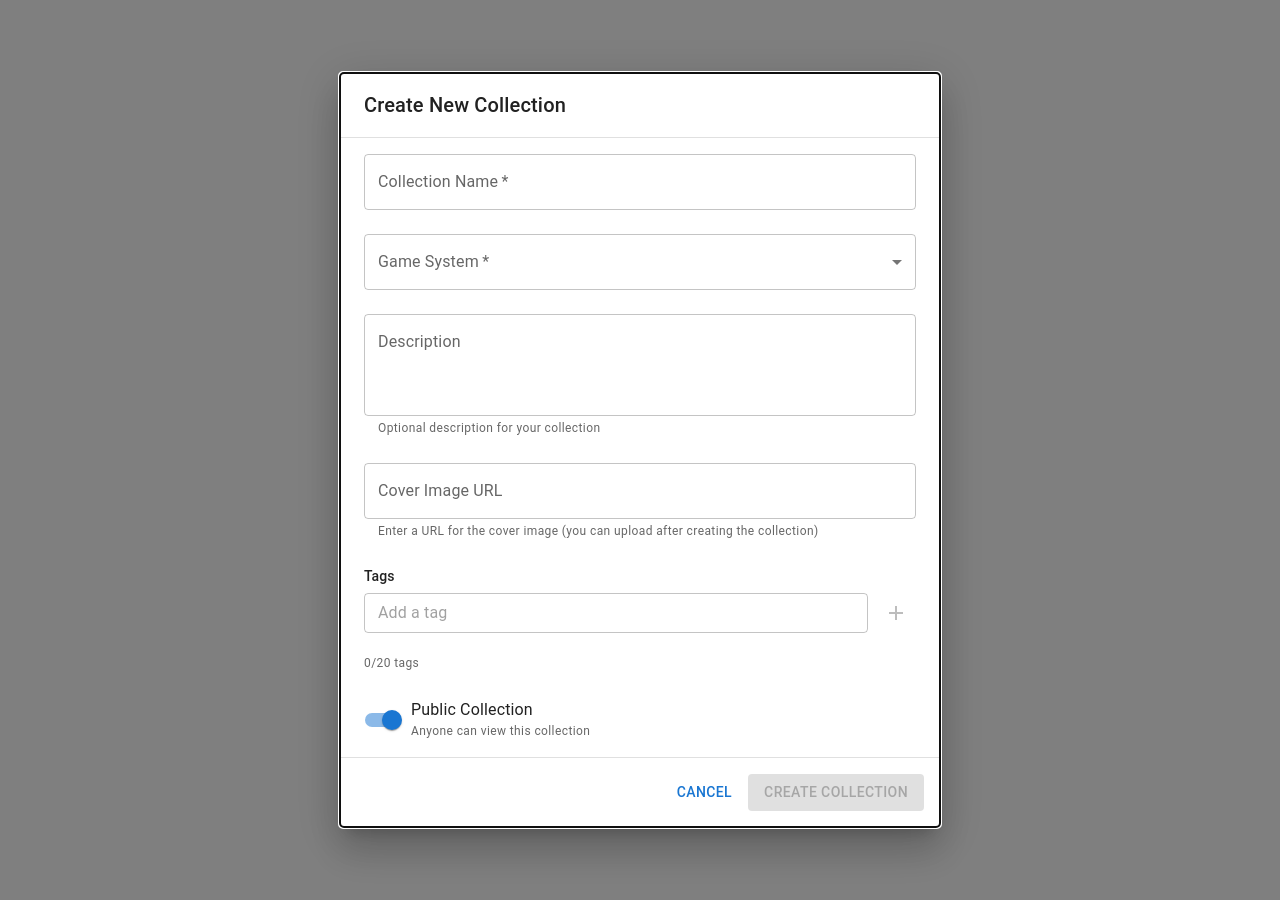
Scenario: CollectionForm › validates URL format for image URL
In the field labelled "Collection Name *": (640, 182) [364,154,916,210], type "Test Collection"
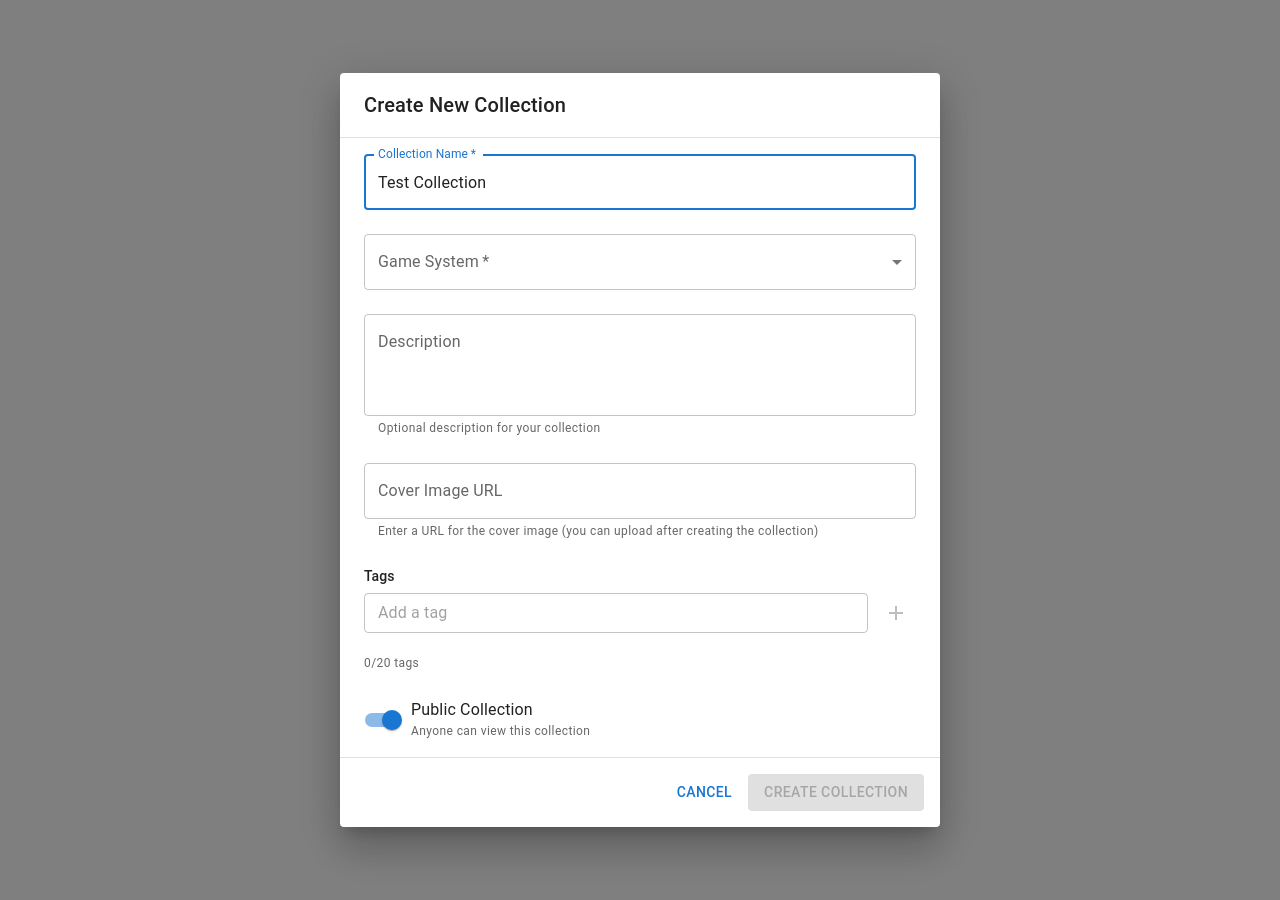
In the field labelled "Cover Image URL": (640, 491) [364,463,916,519], type "invalid-url"
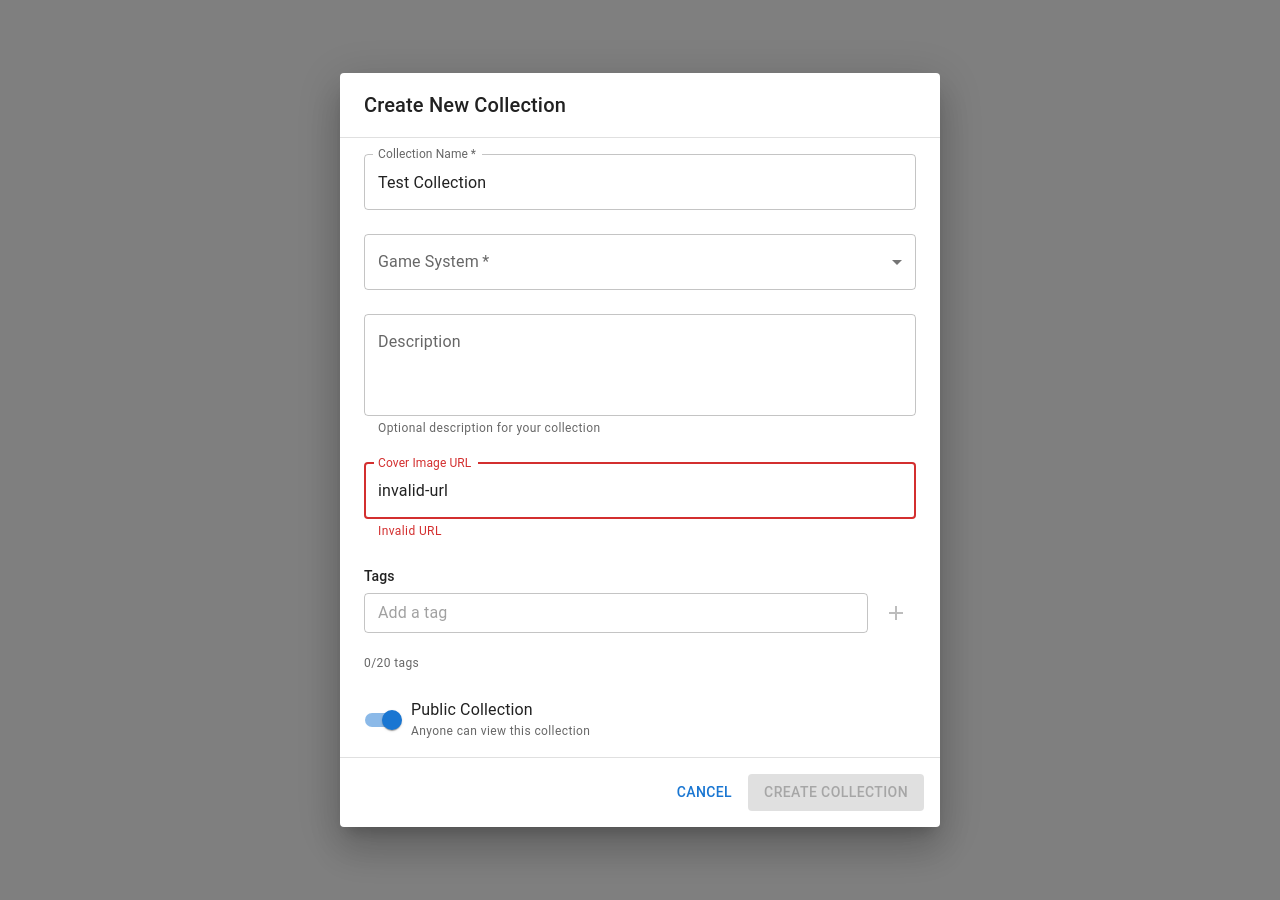
Result: the text "Invalid URL" is shown at [378,524,442,538]
